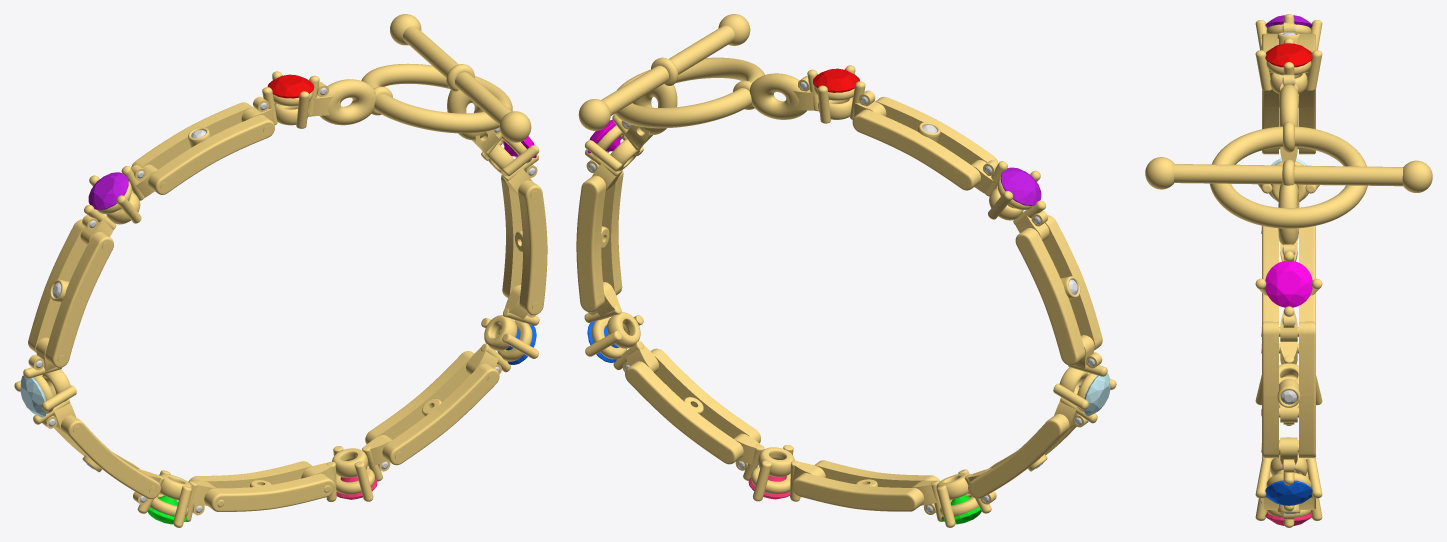
The model's file is DeanV3new.glb.
3 views of the same model, side by side, from view 1: azimuth 30°, elevation 25°; view 2: azimuth 150°, elevation 25°; view 3: azimuth 270°, elevation 25° (orthographic). The views are drawn at different scales.
Visible parts, largest first — view 1: Dean YG for 3d model, V2 Dean amethyst for 3d model, V2 Dean almandine garnet for 3d model, V2 Dean aquamarine for 3d model; view 2: Dean YG for 3d model, V2 Dean amethyst for 3d model, V2 Dean almandine garnet for 3d model, V2 Dean aquamarine for 3d model; view 3: Dean YG for 3d model, V2 Dean pink sapphire for 3d model, V2 Dean sapphire for 3d model, V2 Dean almandine garnet for 3d model.
Boxes of the visible parts, left/top/right/bottom form: Dean YG for 3d model: left=14, top=14, right=547, bottom=527; V2 Dean amethyst for 3d model: left=88, top=172, right=128, bottom=210; V2 Dean almandine garnet for 3d model: left=267, top=74, right=314, bottom=98; V2 Dean aquamarine for 3d model: left=20, top=375, right=51, bottom=417; Dean YG for 3d model: left=576, top=14, right=1116, bottom=527; V2 Dean amethyst for 3d model: left=1000, top=167, right=1041, bottom=205; V2 Dean almandine garnet for 3d model: left=813, top=68, right=859, bottom=92; V2 Dean aquamarine for 3d model: left=1079, top=373, right=1110, bottom=416; Dean YG for 3d model: left=1145, top=14, right=1432, bottom=527; V2 Dean pink sapphire for 3d model: left=1265, top=261, right=1312, bottom=307; V2 Dean sapphire for 3d model: left=1265, top=480, right=1312, bottom=505; V2 Dean almandine garnet for 3d model: left=1265, top=43, right=1312, bottom=67.
Size of the model in its own units: 76.74 by 61.35 by 35.95.
